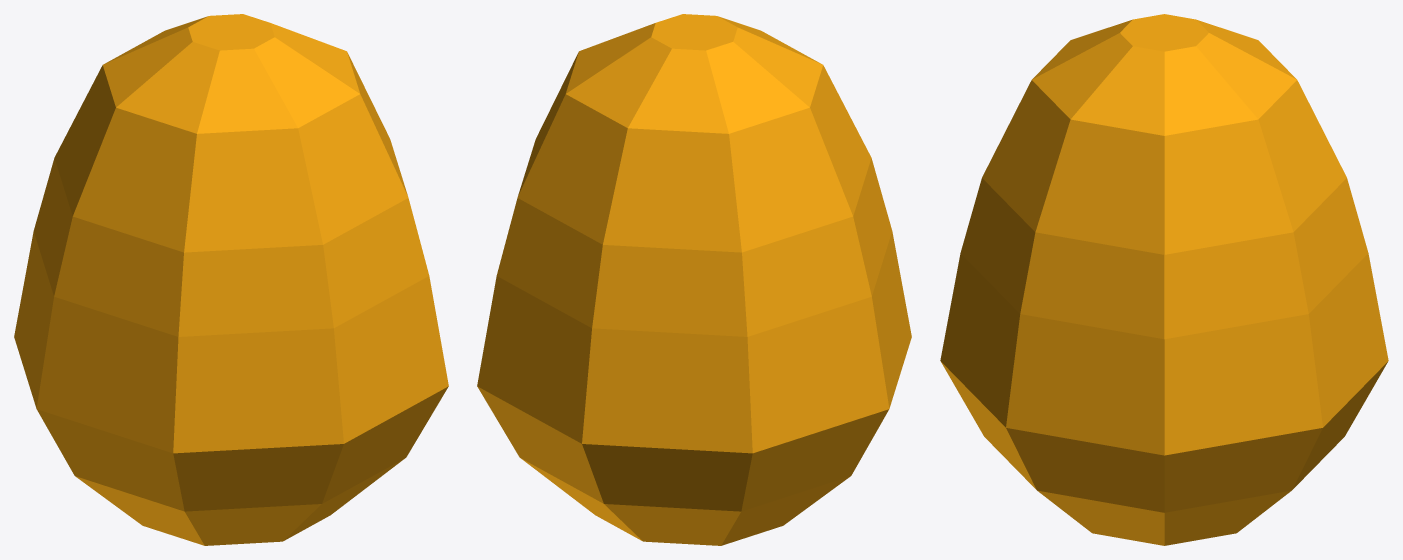
The model's file is PeeledMango.obj.
3 renders of one model, left to right at view 1: azimuth 30°, elevation 25°; view 2: azimuth 150°, elevation 25°; view 3: azimuth 270°, elevation 25°, orthographic.
Visible parts, largest first — view 1: mangoGreen.001; view 2: mangoGreen.001; view 3: mangoGreen.001.
Boxes of the visible parts, x1,y1,x2,y2 form: mangoGreen.001: (14, 14, 448, 545); mangoGreen.001: (477, 14, 911, 545); mangoGreen.001: (940, 14, 1388, 545).
Bounding box in the file's own units: 0.0981 × 0.1135 × 0.0981.
